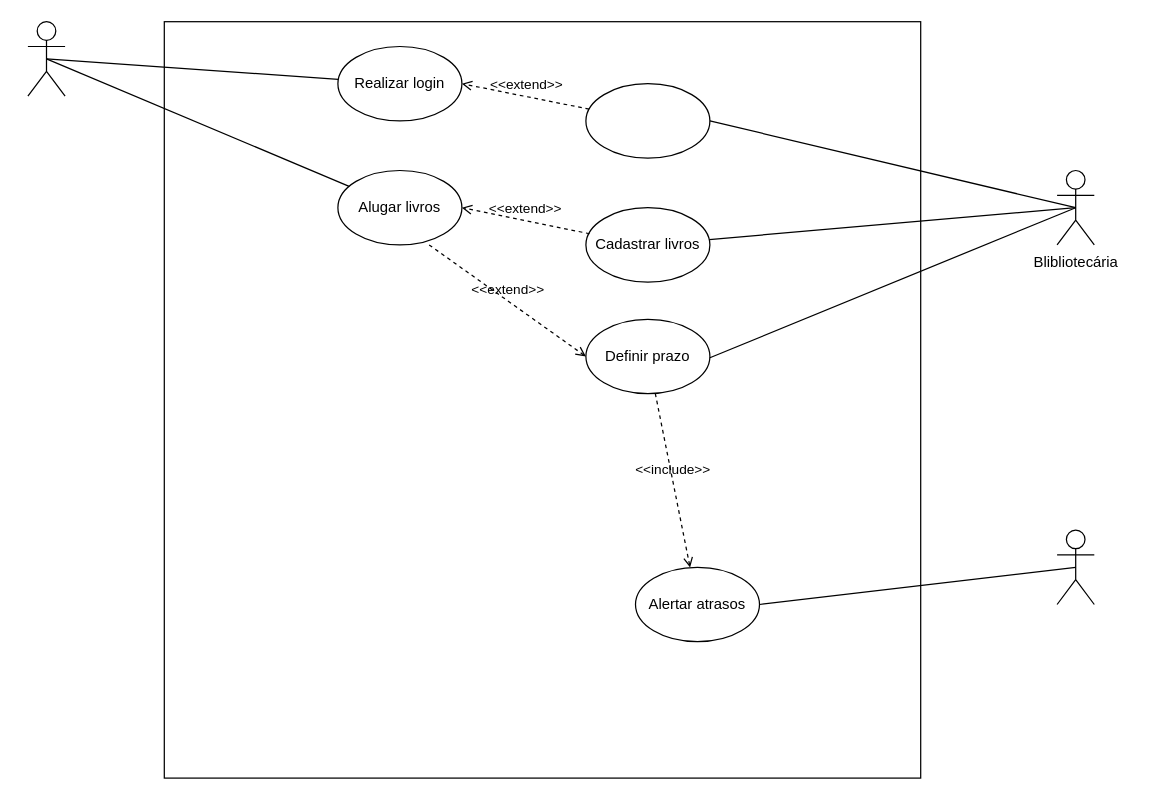
Some shapes in this 1174 by 800 pixel diagram are drawn without their labels. Each missing label, with the centre of its shape:
Cadastrar usuário: (x=647, y=120)
Sistema de mensagens: (x=1075, y=566)
Usuário: (x=46, y=58)
